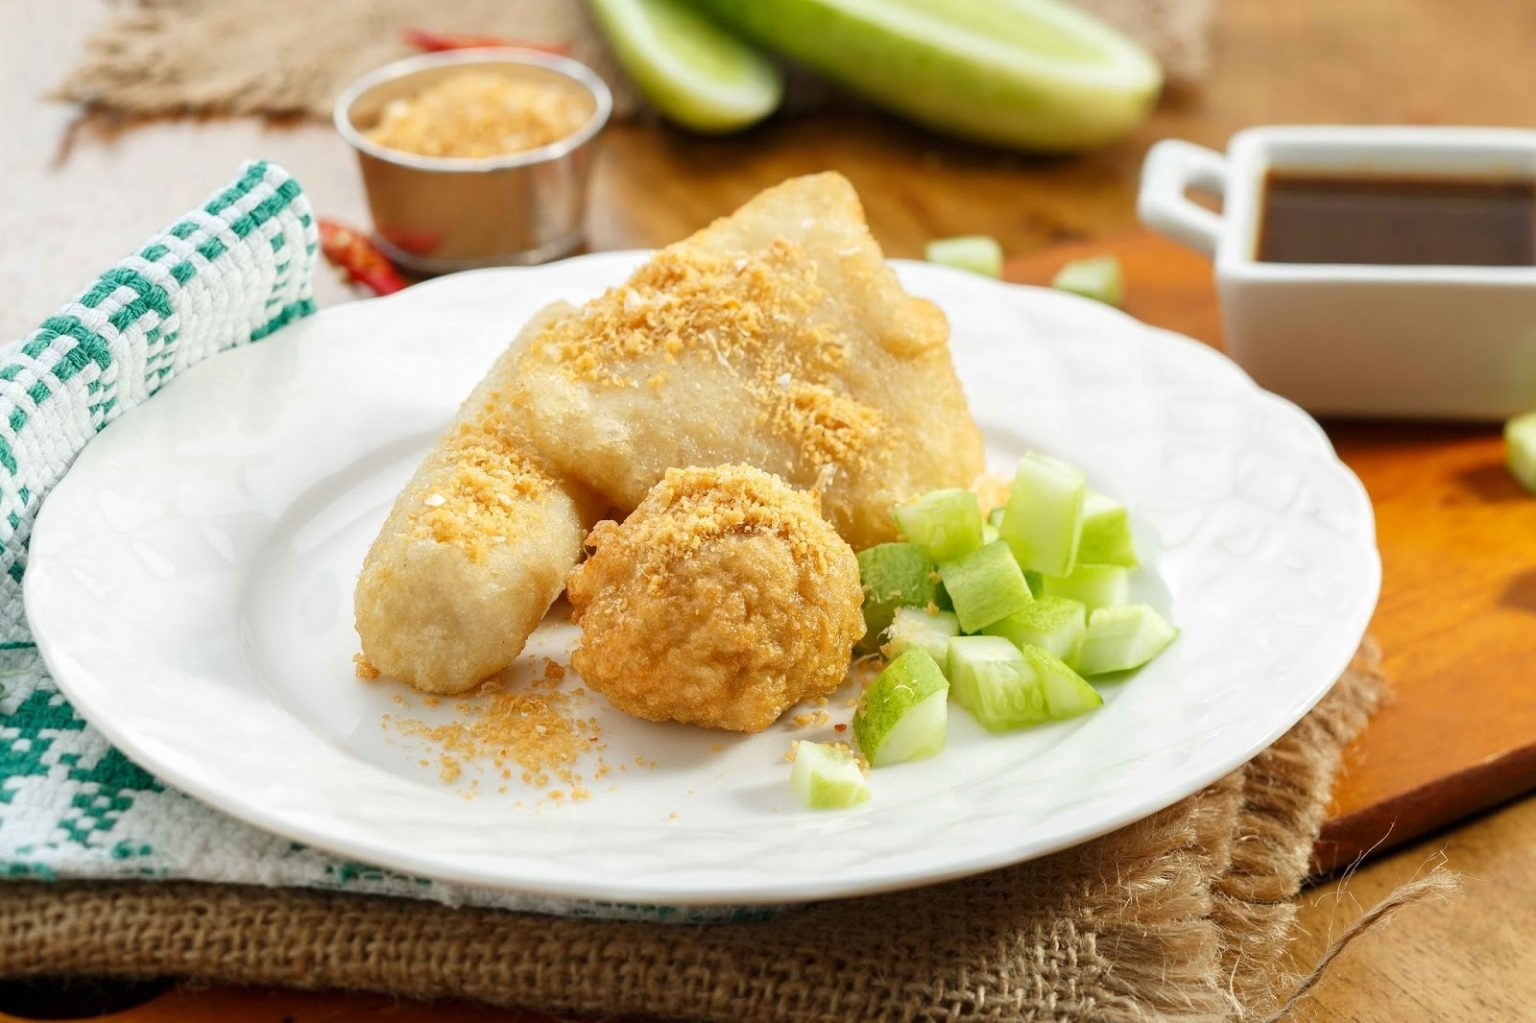pempek: (351, 170, 994, 732)
